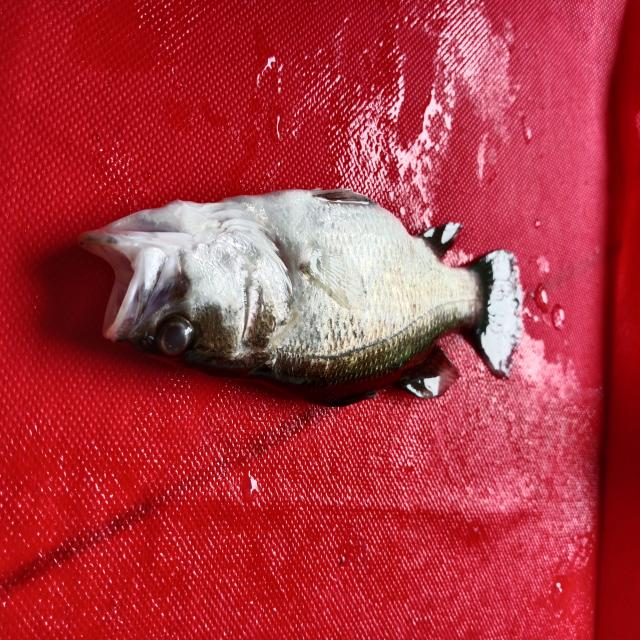ikan: (72, 168, 552, 409)
